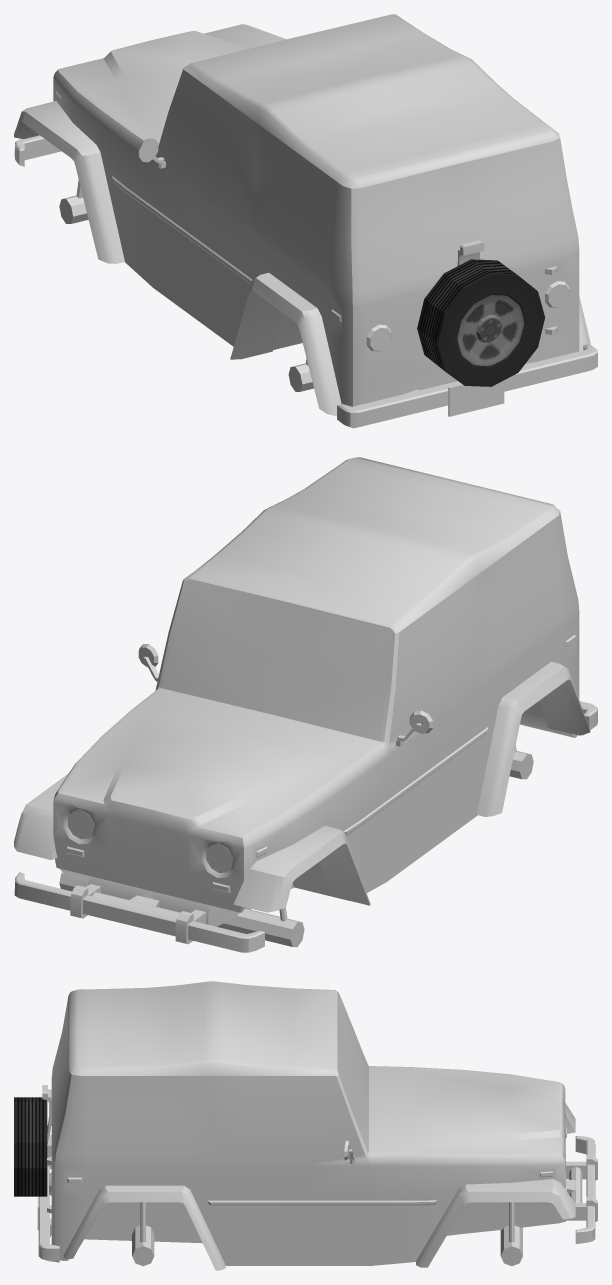
File: XTHopper.fbx
3 renders of one model, top to bottom at view 1: azimuth 30°, elevation 25°; view 2: azimuth 150°, elevation 25°; view 3: azimuth 270°, elevation 25°, orthographic. The views are drawn at different scales.
Parts seen in each view (by area): view 1: Hopper, SpareWheel; view 2: Hopper; view 3: Hopper, SpareWheel.
Part boxes in pixels (bbox=[...]): Hopper: bbox=[14, 14, 597, 428]; SpareWheel: bbox=[417, 259, 545, 386]; Hopper: bbox=[14, 457, 597, 952]; Hopper: bbox=[37, 981, 597, 1270]; SpareWheel: bbox=[14, 1097, 47, 1196].
Bounding box in the file's own units: 2.45 × 2 × 5.25.
